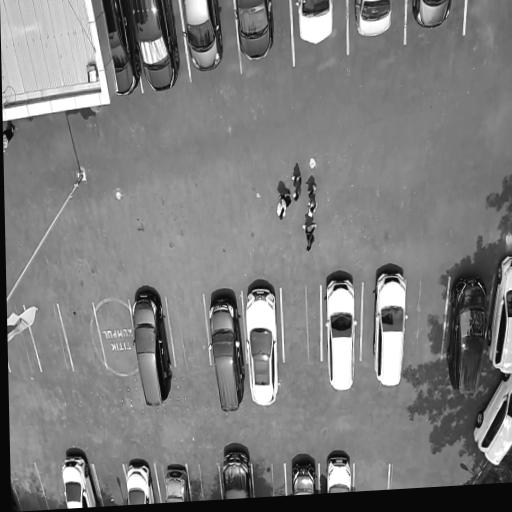Car: (124, 279, 177, 421), (239, 269, 288, 418), (204, 274, 251, 420), (445, 268, 490, 406), (319, 264, 362, 404), (128, 0, 186, 99), (368, 266, 413, 391), (91, 0, 140, 106), (177, 0, 229, 92), (470, 379, 512, 476), (484, 256, 512, 380), (230, 0, 280, 67), (292, 0, 340, 56), (348, 0, 399, 52), (59, 452, 103, 509), (217, 445, 254, 500), (411, 0, 461, 40), (125, 458, 155, 505), (322, 450, 354, 494), (287, 452, 319, 496), (162, 462, 192, 503)
Space Available: (405, 281, 450, 362), (24, 301, 74, 373), (92, 300, 140, 369), (58, 303, 106, 372), (280, 286, 321, 366), (165, 298, 210, 368), (7, 303, 42, 375), (11, 461, 49, 511), (466, 0, 512, 36), (36, 464, 68, 510), (93, 465, 128, 507), (187, 465, 223, 501), (252, 463, 286, 498), (354, 460, 390, 492)
